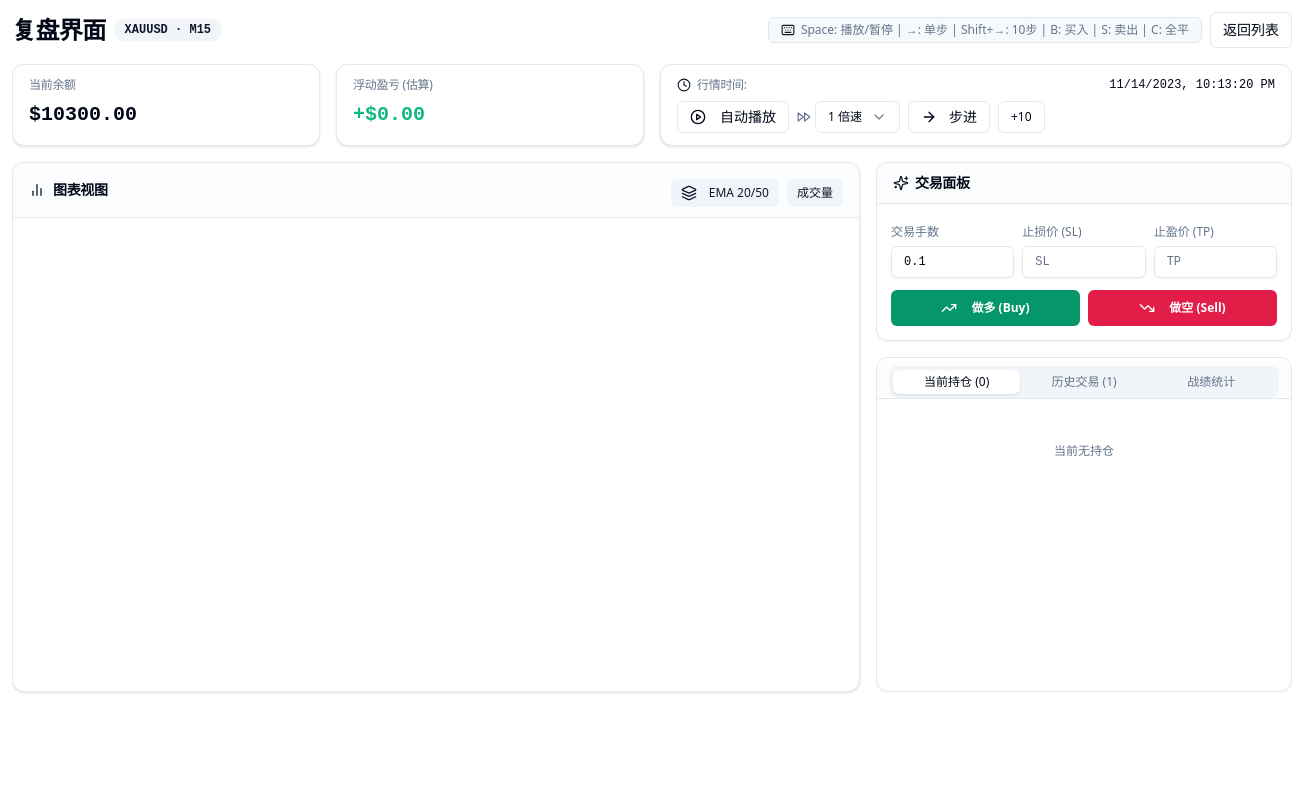
TradingReviewPage Component › switches to analytics tab and displays performance metrics
Click the tab "战绩统计" at (1211, 382), box [1148,370,1275,394]
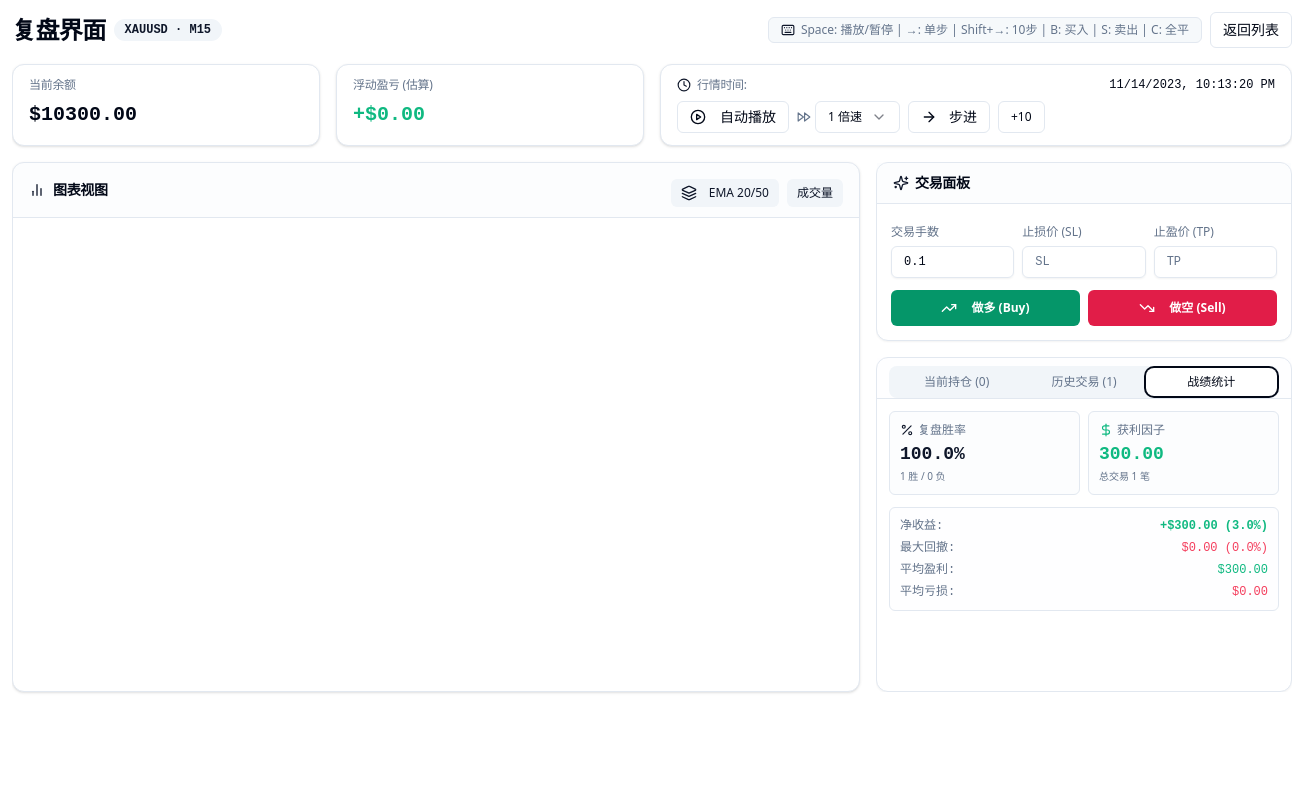
Now the text "100.0%" is shown, box [900,444,965,464]
Now the text "+$300.00 (3.0%)" is shown, box [1160,518,1268,534]
